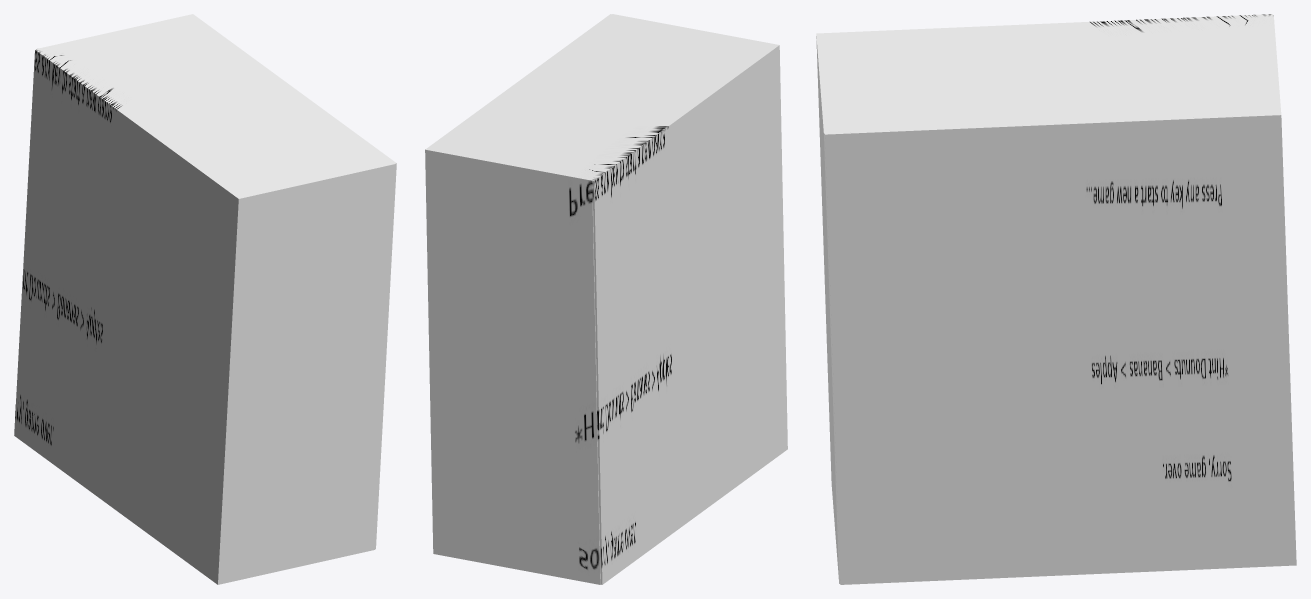
The model's file is gameover.obj.
3 renders of one model, left to right at view 1: azimuth 30°, elevation 25°; view 2: azimuth 150°, elevation 25°; view 3: azimuth 270°, elevation 25°, orthographic. The views are drawn at different scales.
Visible parts, largest first — view 1: Cube_Cube.001; view 2: Cube_Cube.001; view 3: Cube_Cube.001.
Part boxes in pixels (bbox=[...]): Cube_Cube.001: bbox=[14, 14, 396, 584]; Cube_Cube.001: bbox=[425, 14, 787, 584]; Cube_Cube.001: bbox=[816, 14, 1296, 584].
Size of the model in its own units: 3.24 by 6.68 by 6.07.
